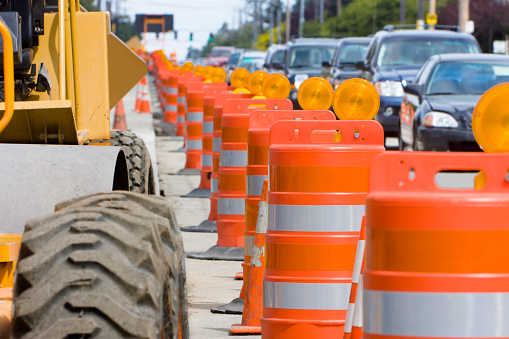trafficcone: (364, 151, 509, 338), (262, 120, 385, 338), (212, 110, 336, 311), (187, 113, 250, 257), (182, 95, 225, 231), (231, 179, 268, 335), (180, 96, 214, 196), (343, 211, 365, 338), (178, 84, 206, 173), (352, 241, 364, 338), (112, 99, 130, 132), (139, 73, 150, 114), (135, 74, 140, 112)
